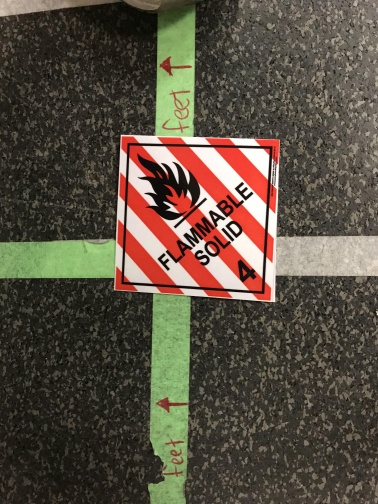FlammableSolid: (114, 135, 281, 302)
